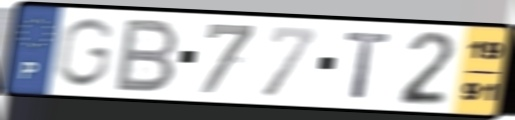2: (396, 29, 459, 107)
7: (196, 21, 258, 95), (265, 24, 321, 100)
B: (110, 16, 183, 94)
G: (52, 15, 119, 90)
T: (342, 30, 396, 101)
